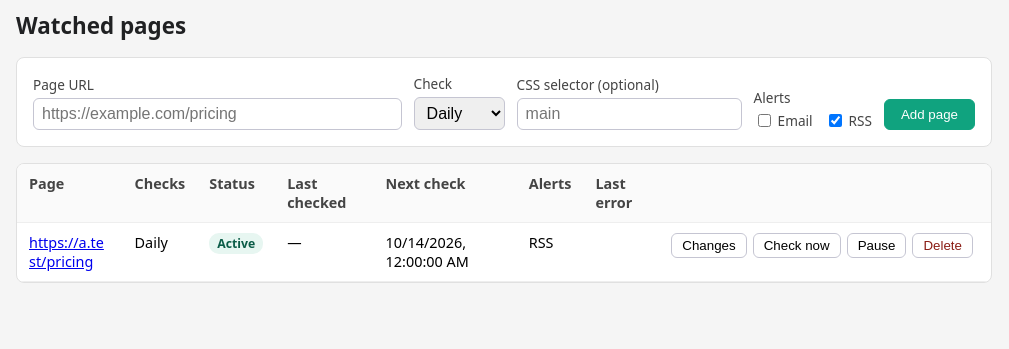
Test case: a failed action is shown, not swallowed, even after the list reloads
Click the button "Check now".
click(797, 246)  # box [753, 233, 841, 258]
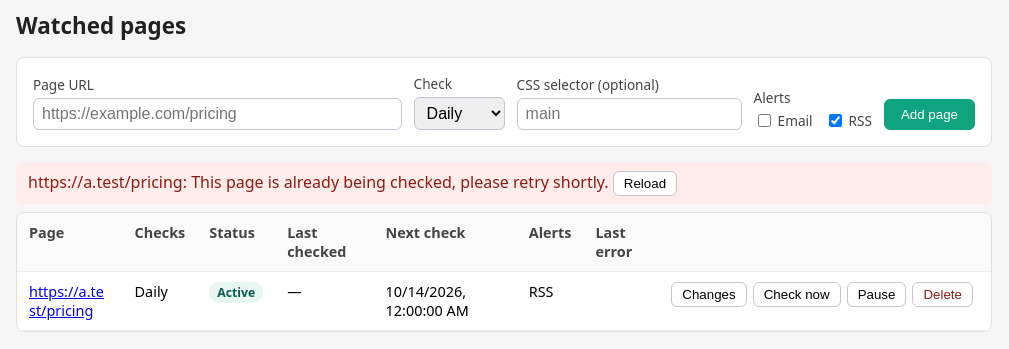
Check: the button "Check now" is shown, box [753, 282, 841, 307]
Check: the message shows "already being checked", box [28, 171, 609, 193]
